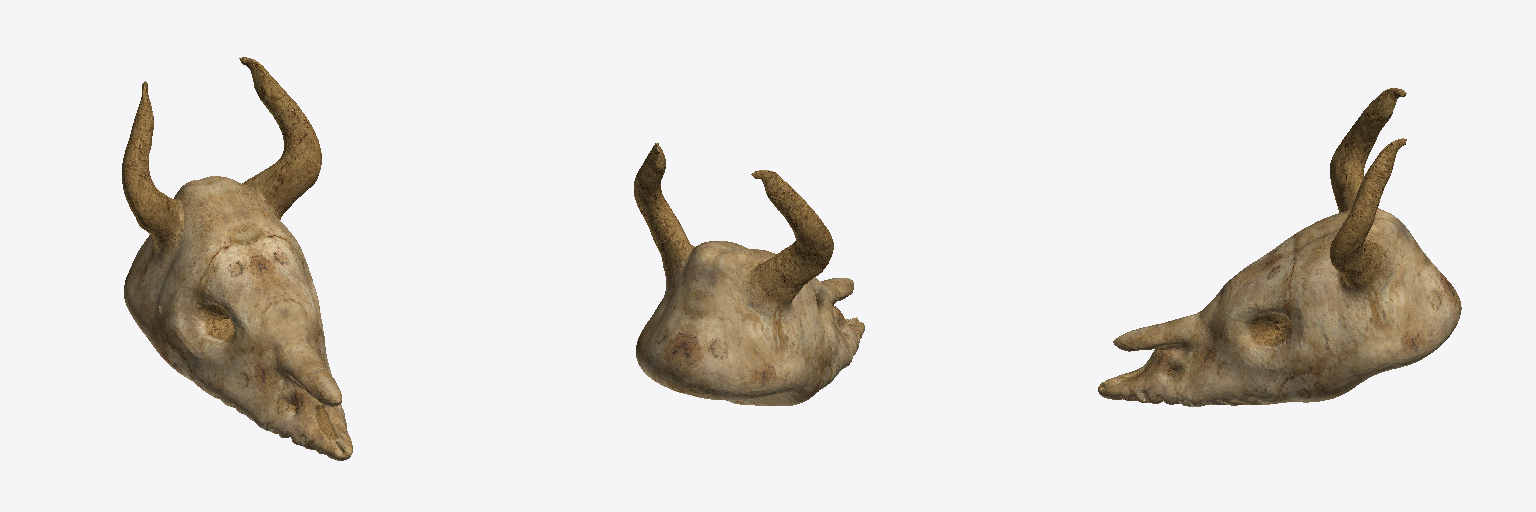
3 renders of one model, left to right at view 1: azimuth 30°, elevation 25°; view 2: azimuth 150°, elevation 25°; view 3: azimuth 270°, elevation 25°, orthographic.
Parts seen in each view (by area): view 1: skull; view 2: skull; view 3: skull.
Boxes of the visible parts, box(x1,y1,x2,y2) form: skull: box(122, 57, 352, 460); skull: box(634, 143, 864, 405); skull: box(1098, 88, 1461, 406).
Bounding box in the file's own units: 2.78 × 3.92 × 4.54.
1 materials, 1 textured.